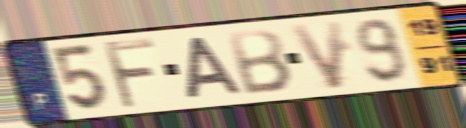5: (48, 41, 111, 114)
9: (354, 16, 413, 85)
A: (183, 35, 246, 101)
B: (225, 27, 295, 97)
F: (100, 37, 159, 112)
V: (286, 18, 344, 93)
